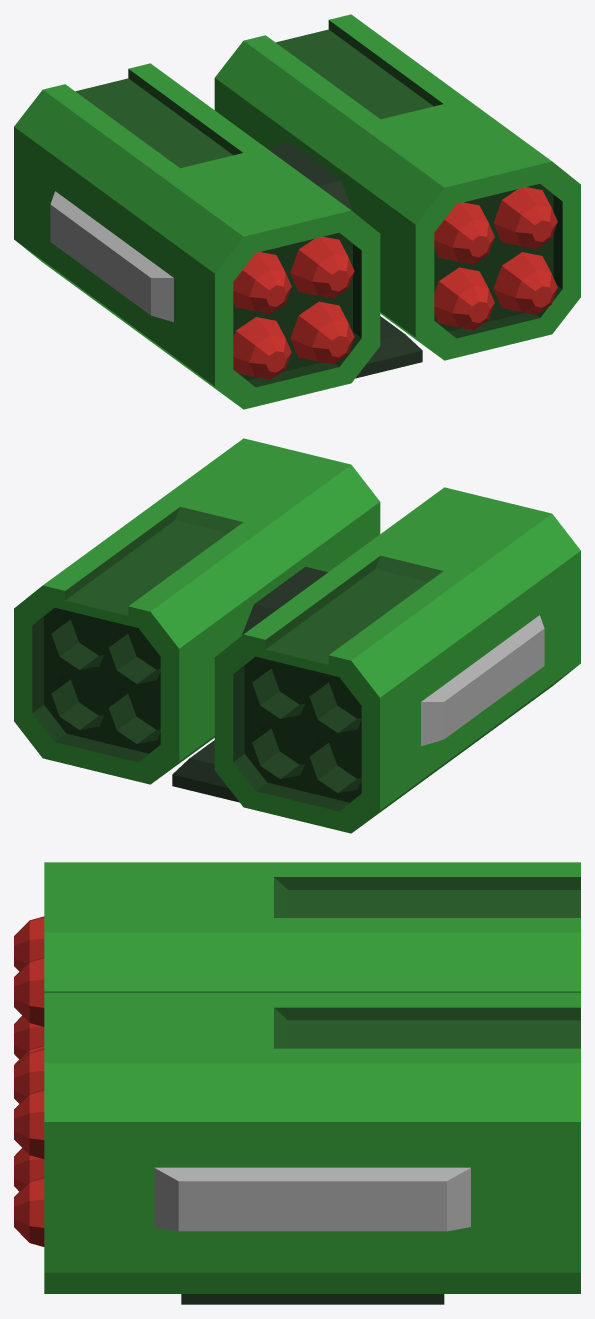
The model's file is rocket_cannon.fbx.
3 renders of one model, top to bottom at view 1: azimuth 30°, elevation 25°; view 2: azimuth 150°, elevation 25°; view 3: azimuth 270°, elevation 25°, orthographic. The views are drawn at different scales.
Visible parts, largest first — view 1: Cube.020, Cylinder.003, Cube.023; view 2: Cube.020, Cube.023; view 3: Cube.020, Cylinder.003, Cube.023.
Boxes of the visible parts, x1=… form: Cube.020: x1=14, y1=14, x2=580, y2=409; Cylinder.003: x1=233, y1=187, x2=557, y2=379; Cube.023: x1=267, y1=142, x2=422, y2=378; Cube.020: x1=14, y1=438, x2=580, y2=833; Cube.023: x1=172, y1=566, x2=327, y2=802; Cube.020: x1=44, y1=862, x2=580, y2=1293; Cylinder.003: x1=14, y1=916, x2=44, y2=1246; Cube.023: x1=181, y1=1294, x2=444, y2=1304.
Bounding box in the file's own units: 132 × 70.45 × 124.
